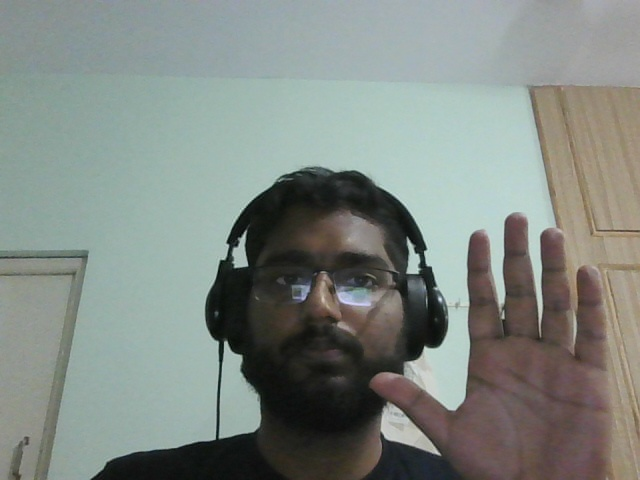Hello: (365, 208, 633, 478)
